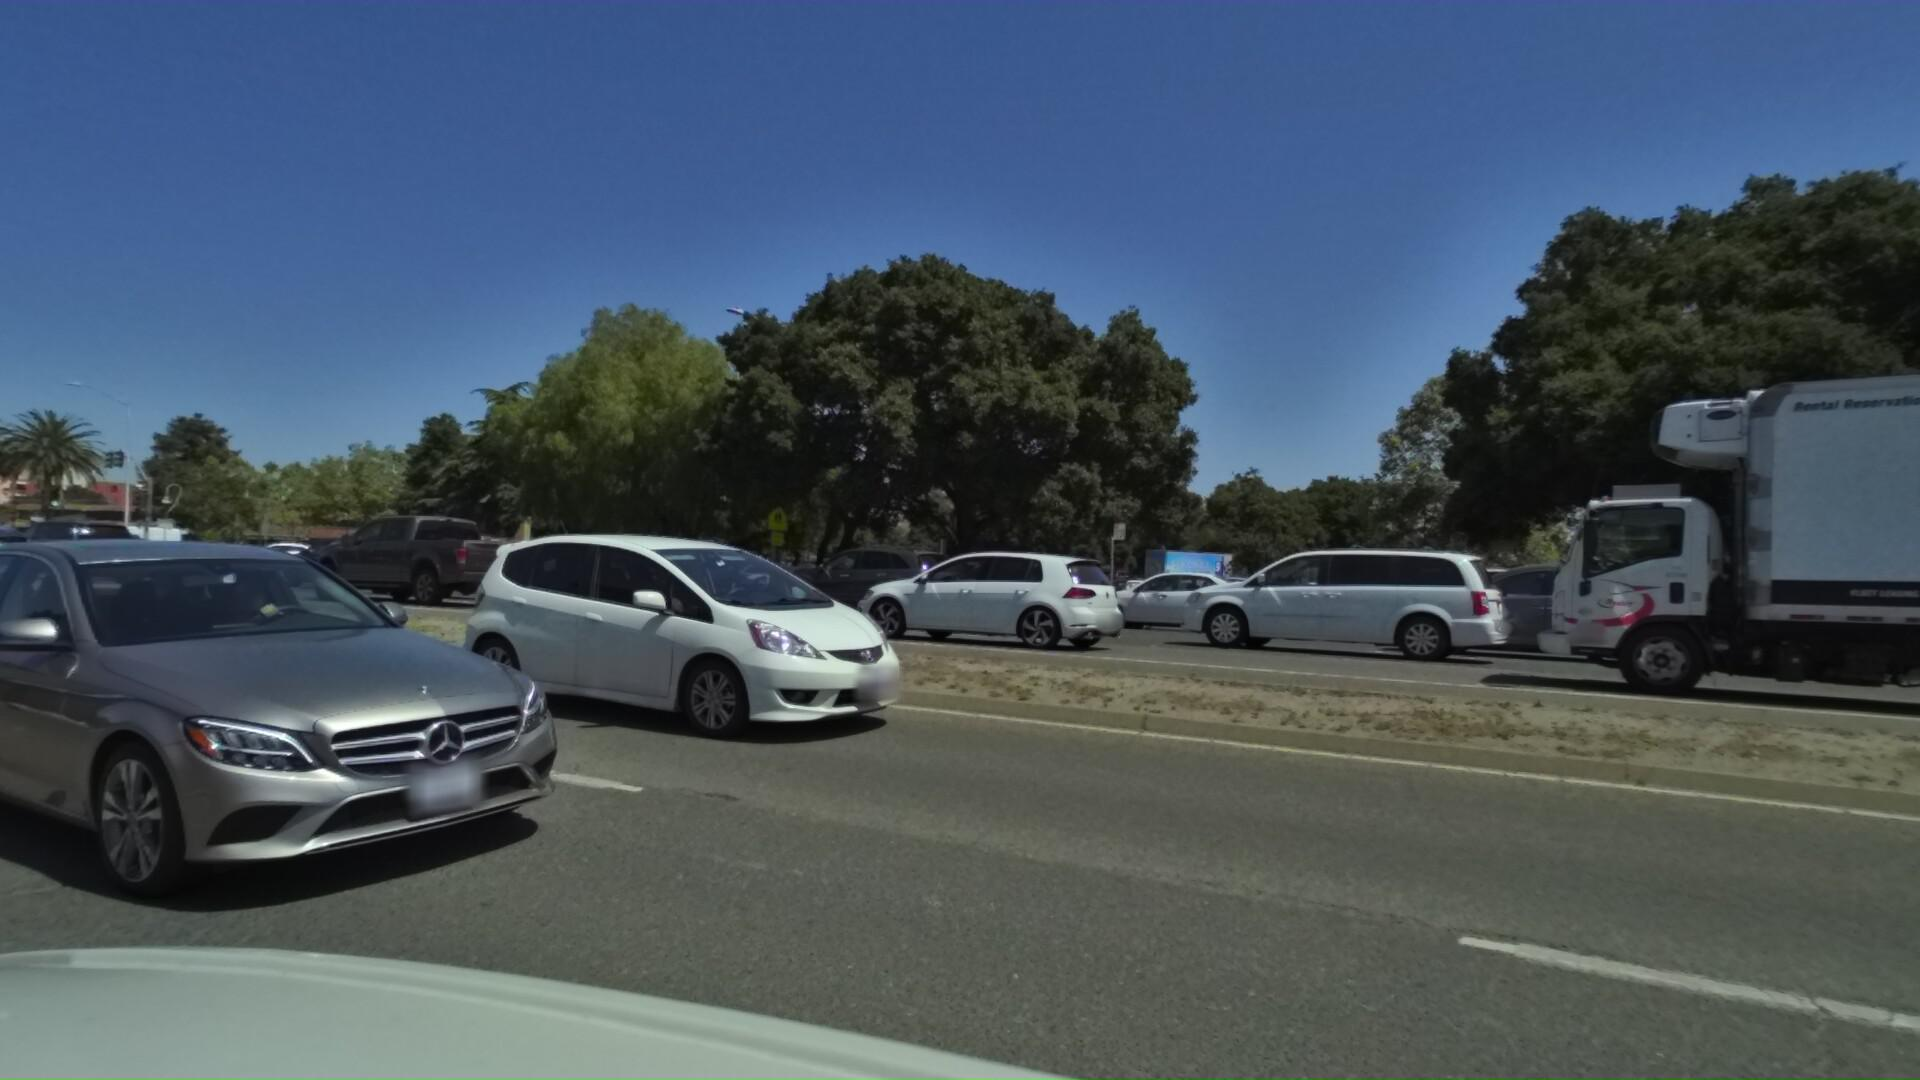car: (0, 516, 628, 949), (433, 513, 968, 758), (1338, 553, 1668, 680), (1118, 538, 1456, 662), (1271, 556, 1555, 665), (796, 543, 1087, 649), (282, 513, 531, 611), (1042, 562, 1251, 651), (746, 541, 951, 621), (371, 531, 529, 597), (0, 516, 140, 580), (262, 533, 398, 589), (51, 518, 185, 567), (67, 531, 189, 579), (0, 520, 41, 583), (105, 538, 193, 564), (231, 541, 310, 568)
truck: (1440, 331, 1920, 765)
